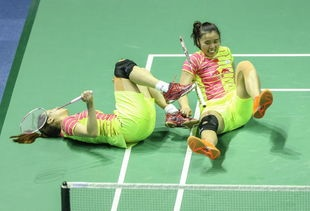falling: (153, 10, 288, 174)
